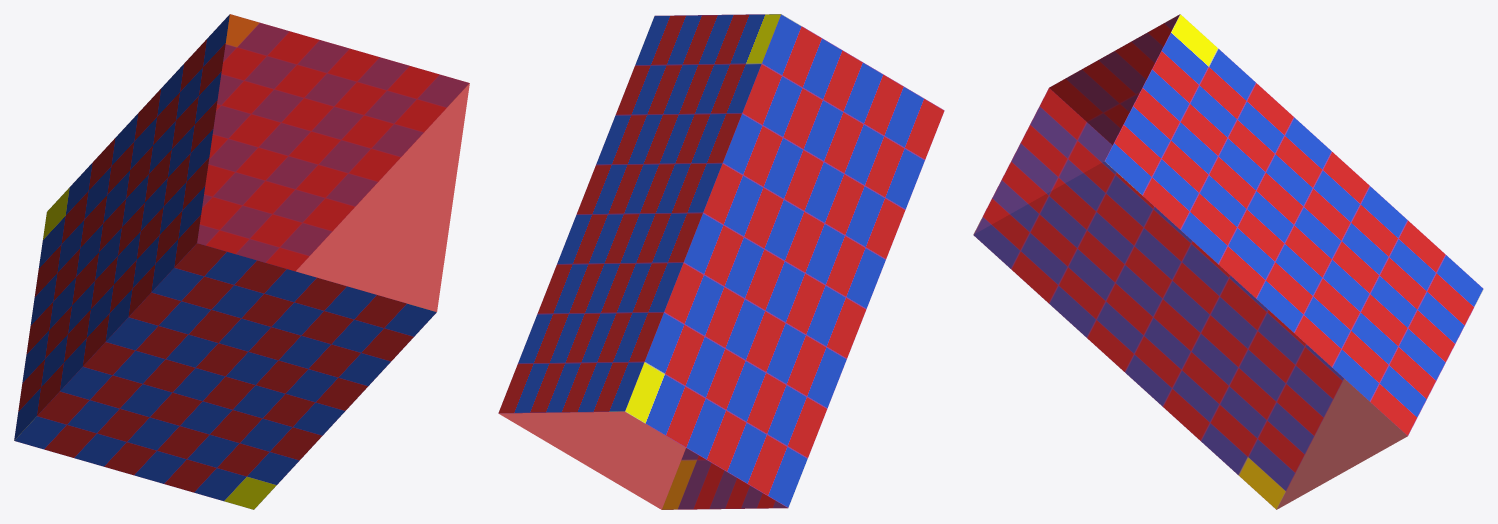
Rendered from scene_bin.fbx.
3 views of the same model, side by side, from view 1: azimuth 30°, elevation 25°; view 2: azimuth 150°, elevation 25°; view 3: azimuth 270°, elevation 25° (orthographic). The views are drawn at different scales.
Visible parts, largest first — view 1: Child; view 2: Child; view 3: Child.
Boxes of the visible parts, bbox=[...] form: Child: bbox=[14, 14, 469, 509]; Child: bbox=[498, 14, 944, 509]; Child: bbox=[973, 14, 1483, 509].
Size of the model in its own units: 2.73 by 4.76 by 4.76.
2 materials, 1 textured.
